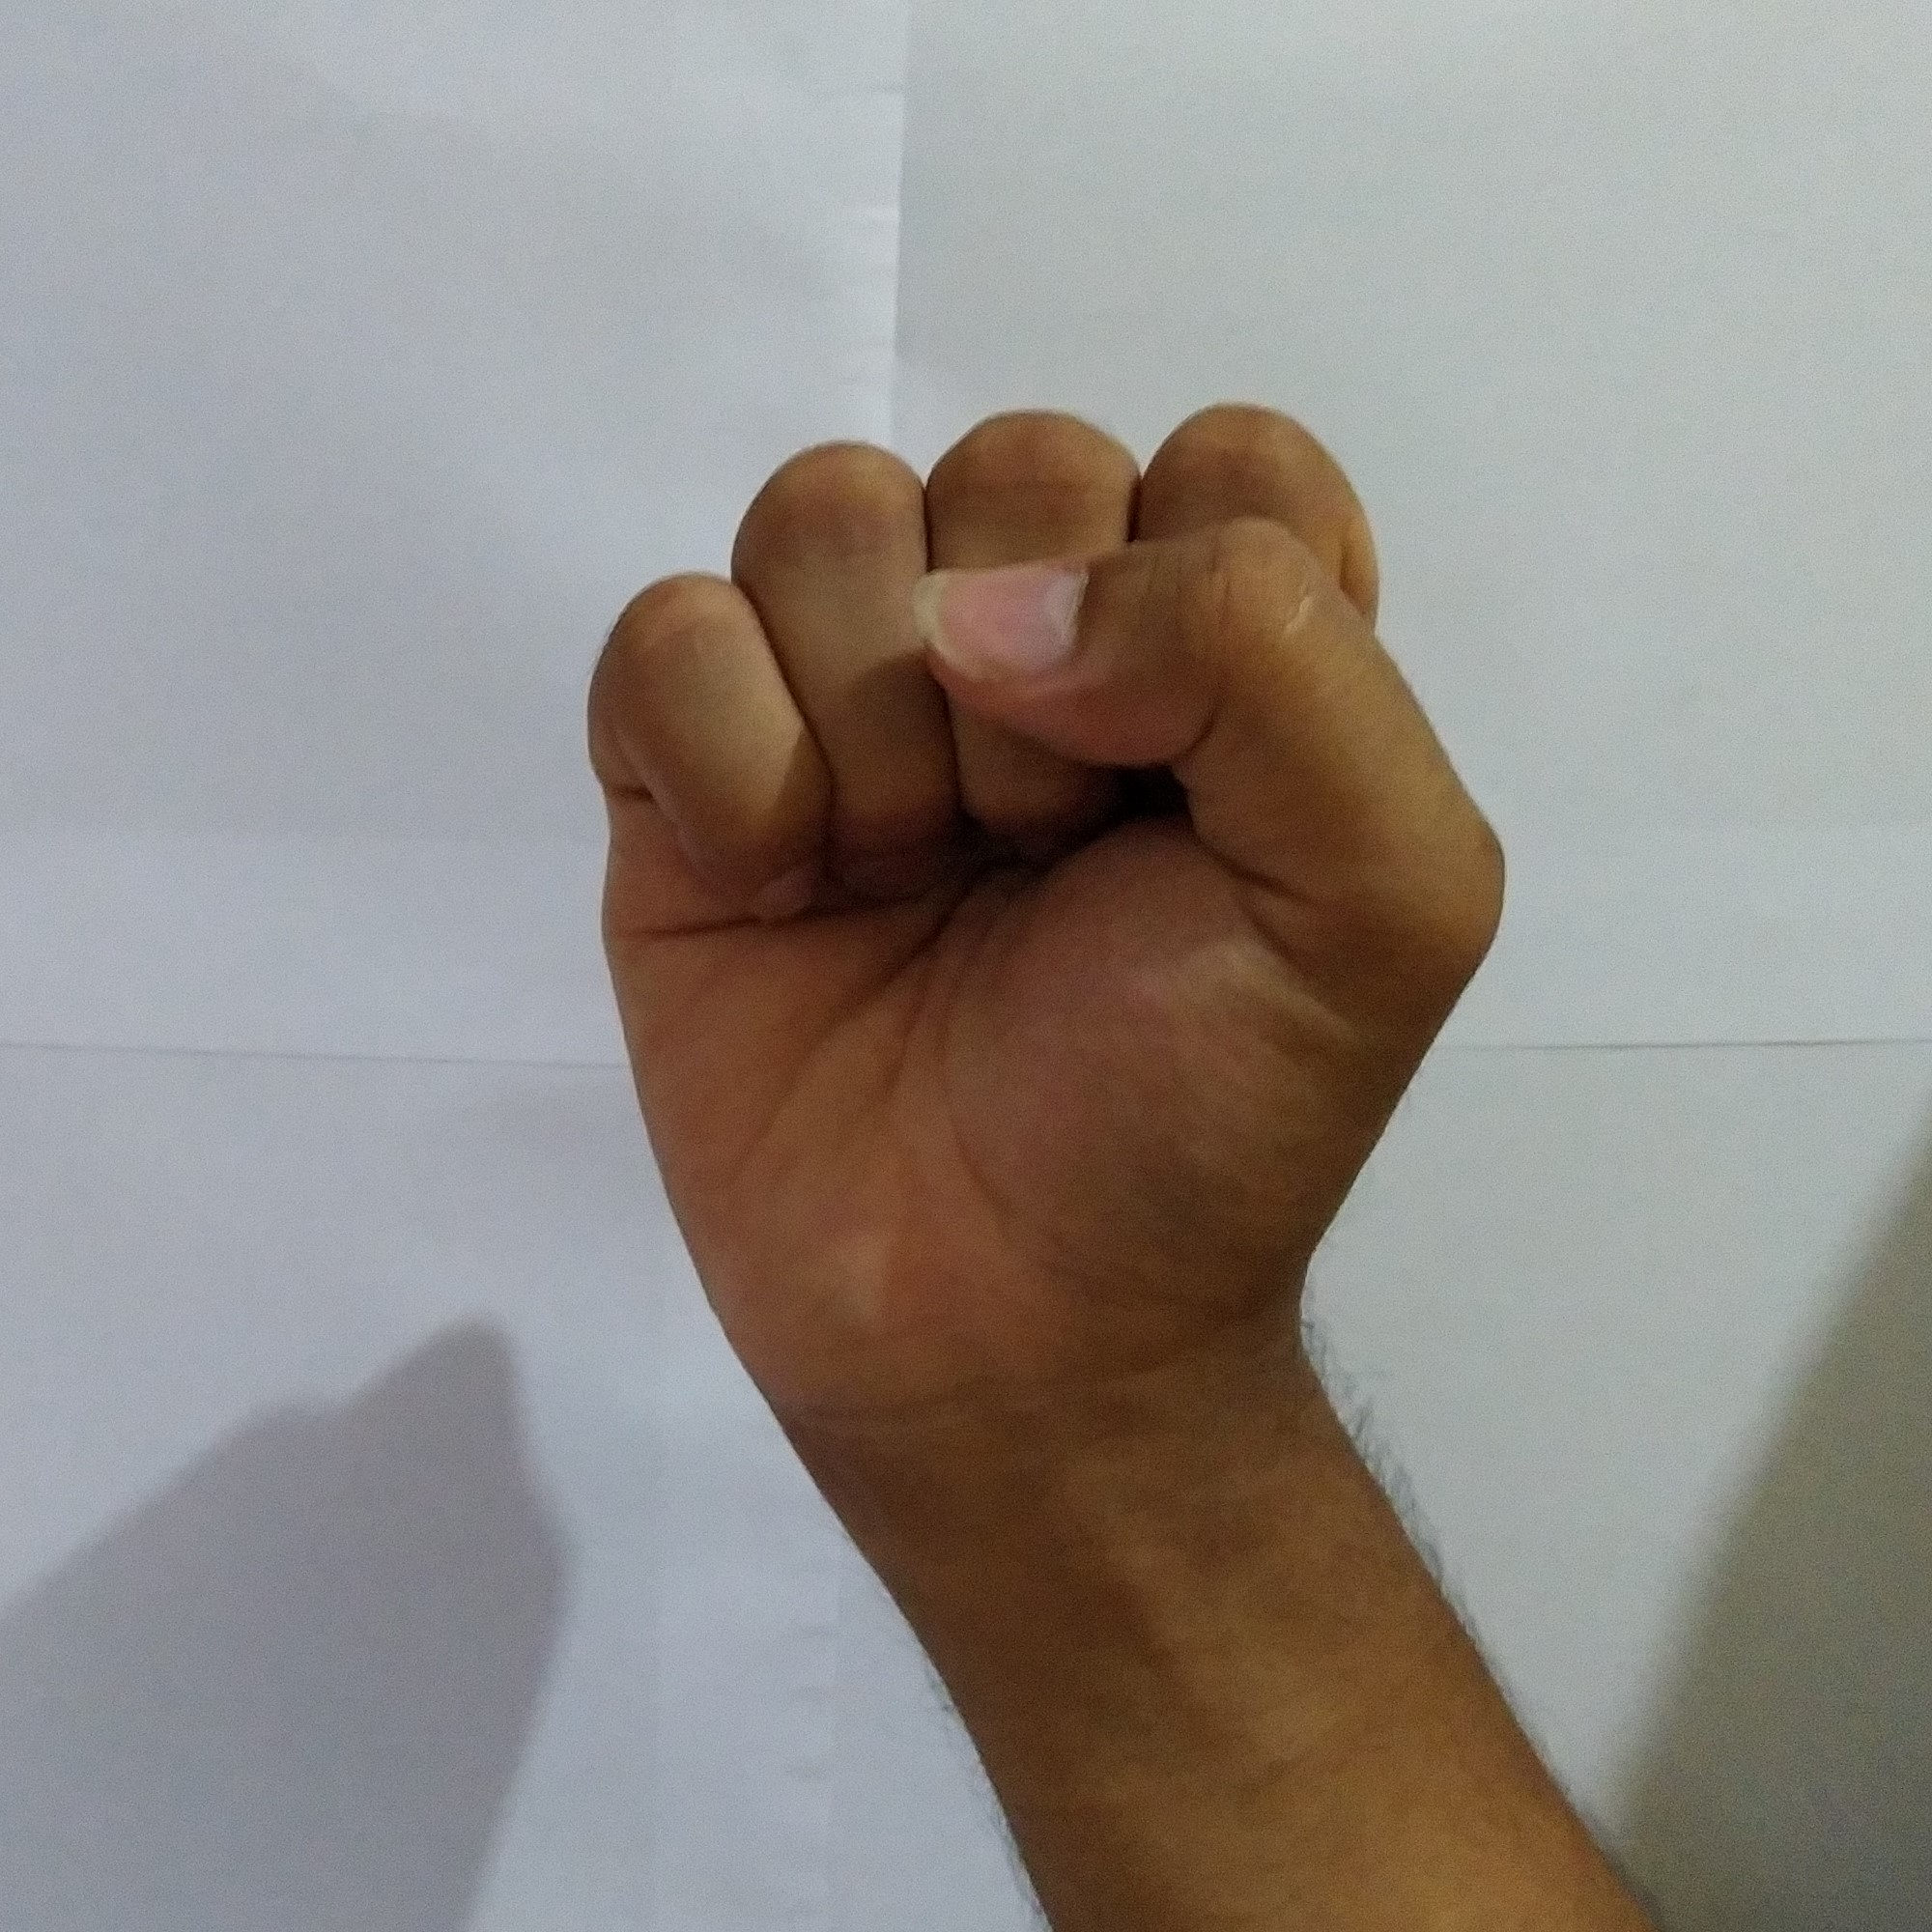S: (552, 372, 1534, 1364)
